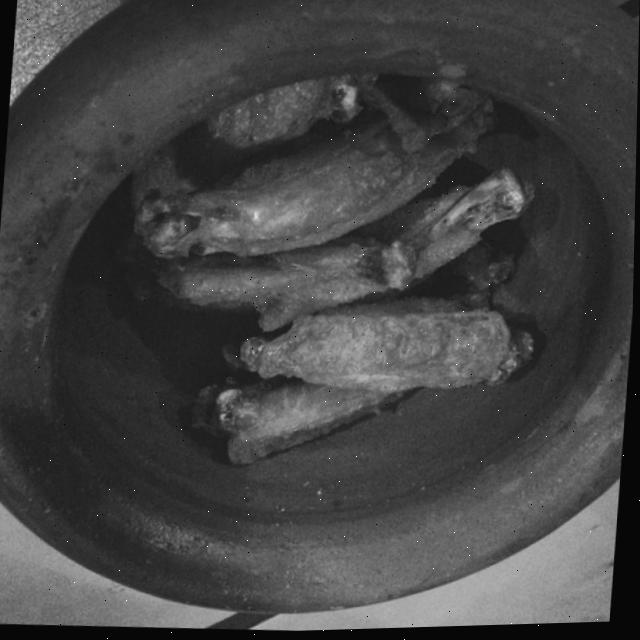鸡肉料理 含炸鸡: (151, 82, 536, 493)
